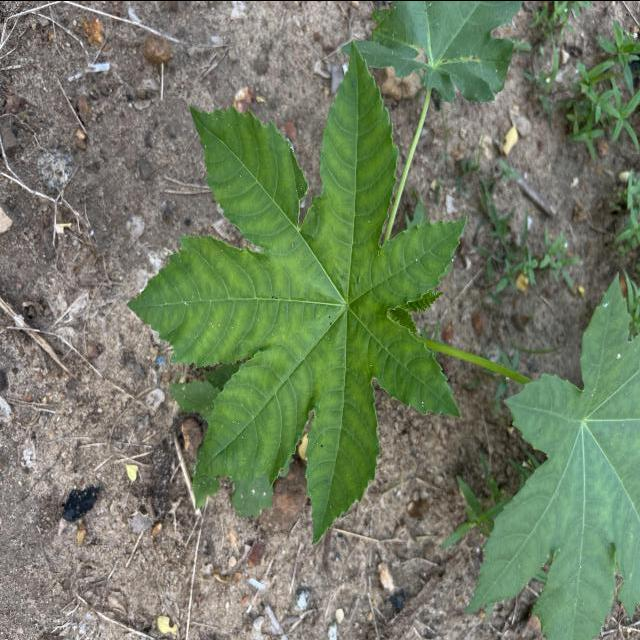Ricinus communis linn: (120, 31, 474, 549)
